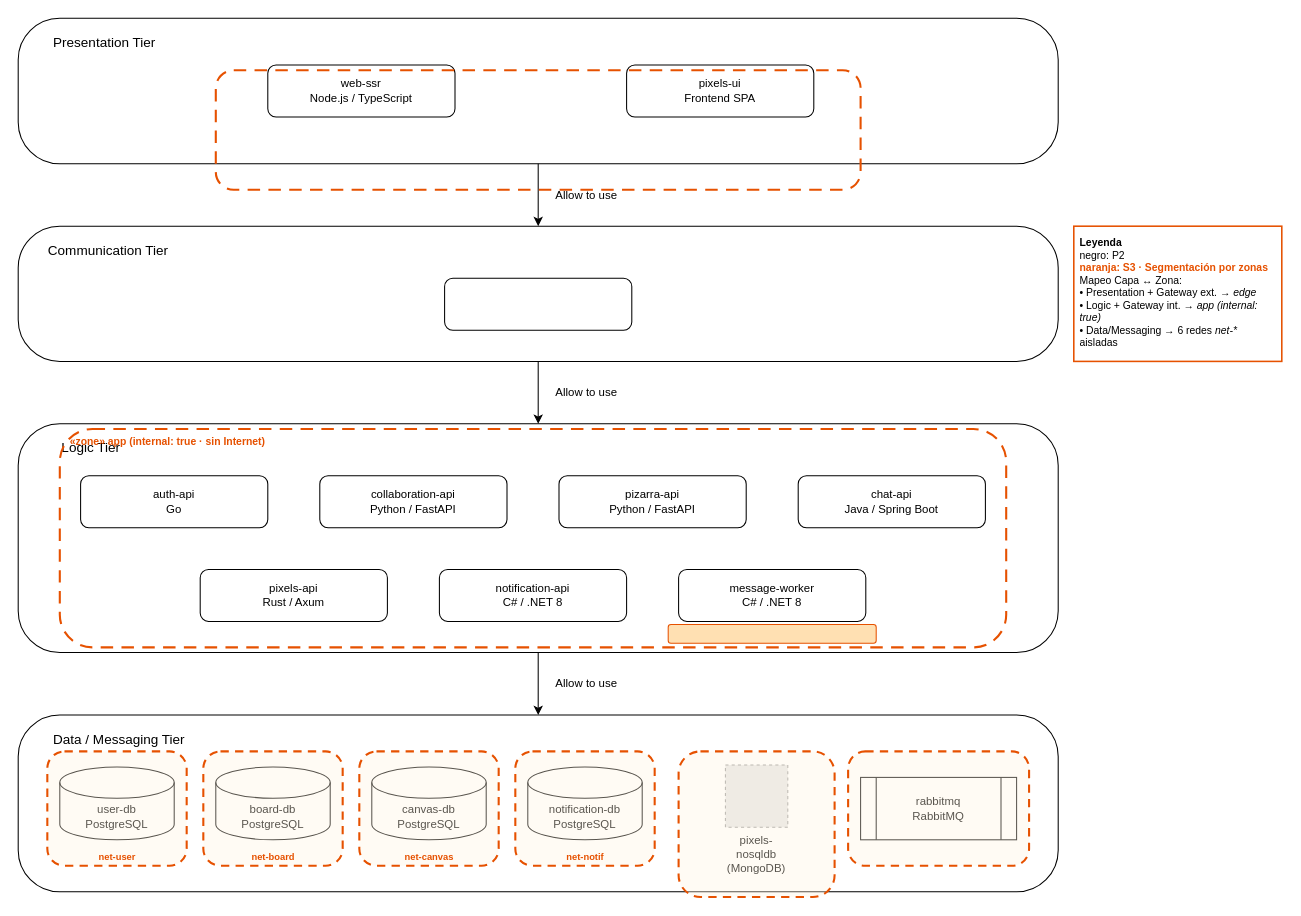
Some shapes in this 1301 by 916 pixel diagram are drawn without their labels. Grey dashed boxes stand in for pictures. The box of each missing label's shape, as (x1, y1, x2, y2) in pixels:
Fuera de zona app (solo net-notif + net-mq): (667, 623, 876, 643)
gateway Nginx: (444, 277, 632, 330)
net-mongo: (677, 750, 835, 898)
net-mq: (847, 750, 1030, 866)
«zone» edge (única con puertos al host): (214, 69, 861, 190)
